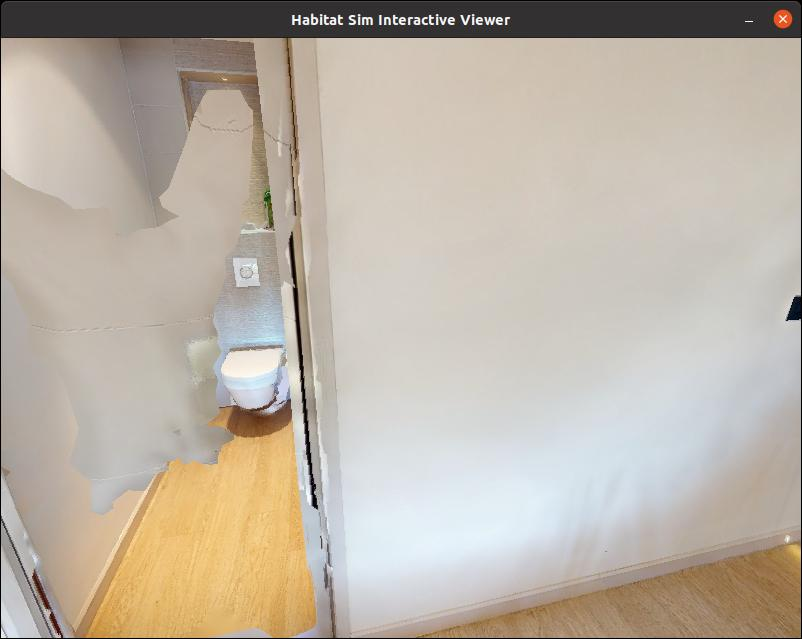door-frame: (0, 41, 364, 639)
toilet: (211, 309, 293, 435)
